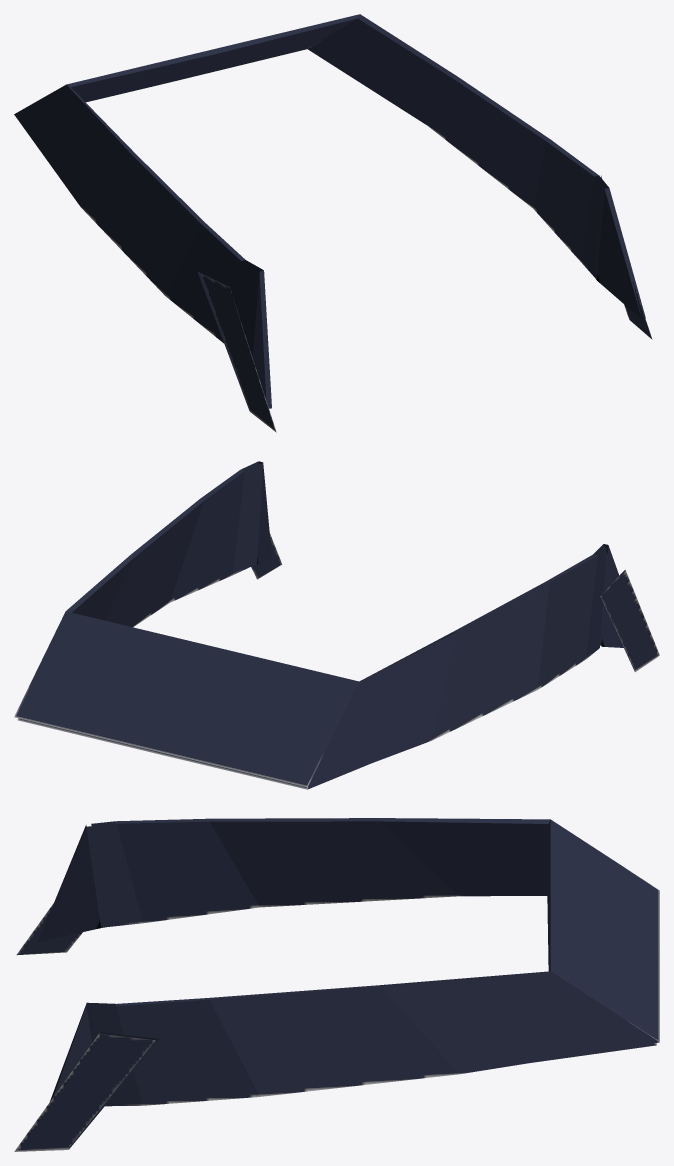
Rendered from kamaracami.glb.
The picture shows the model from 3 angles, top to bottom: view 1: azimuth 30°, elevation 25°; view 2: azimuth 150°, elevation 25°; view 3: azimuth 270°, elevation 25°; orthographic projection. The views are drawn at different scales.
Parts seen in each view (by area): view 1: KamaraCami; view 2: KamaraCami; view 3: KamaraCami.
Part boxes in pixels (x1,y1,x2,y2): KamaraCami: (14, 14, 652, 432); KamaraCami: (14, 461, 659, 789); KamaraCami: (14, 818, 659, 1151).
Bounding box in the file's own units: 0.8614 × 0.3097 × 1.14.
1 material, 1 textured.
